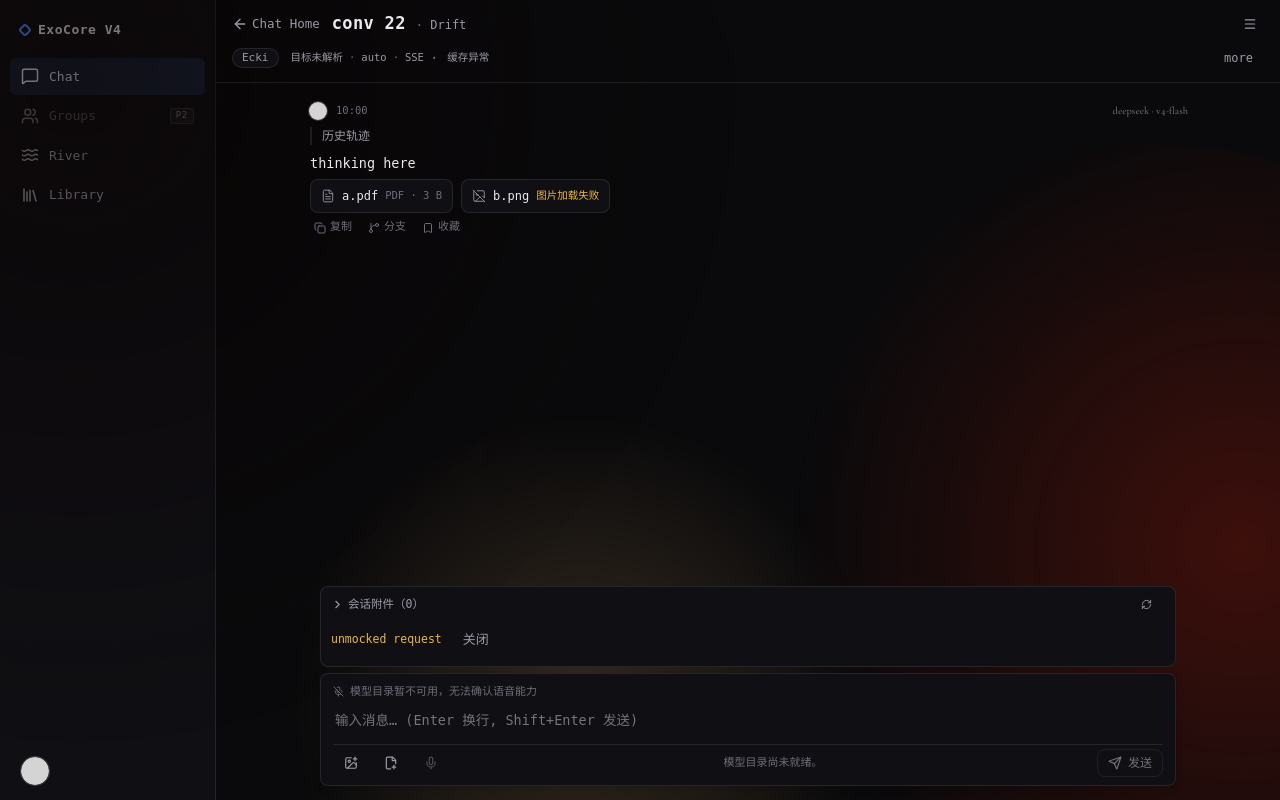
Test: canonical read path — timeline & paging › shows deferred indicators for reasoning and attachments without claiming controls
The image size is (1280, 800).
Expected: the text "hidden reasoning" is not shown
Click the heading "历史轨迹" at (346, 136), box [322,129,370,143]
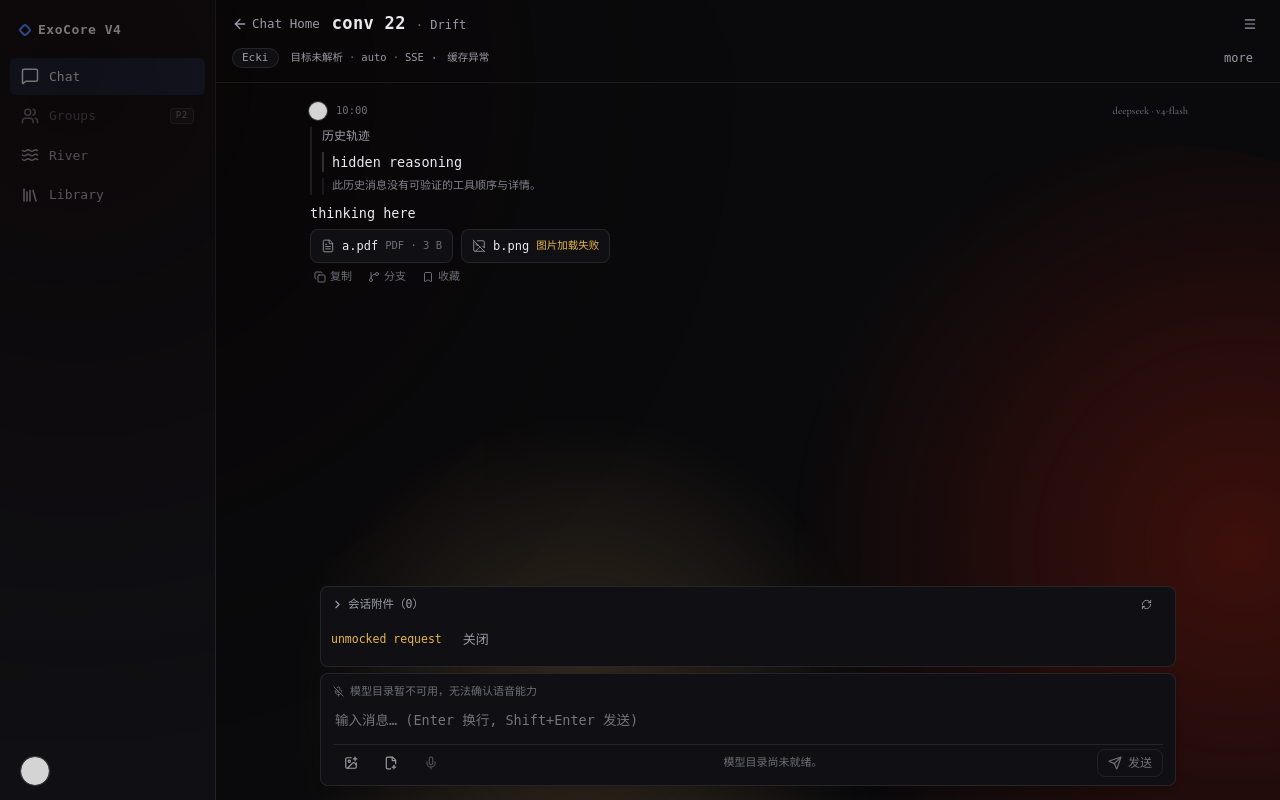
Expected: the text "a.pdf" is shown, [342,237,378,255]
Result: the text "hidden reasoning" is shown at [332,154,462,170]
